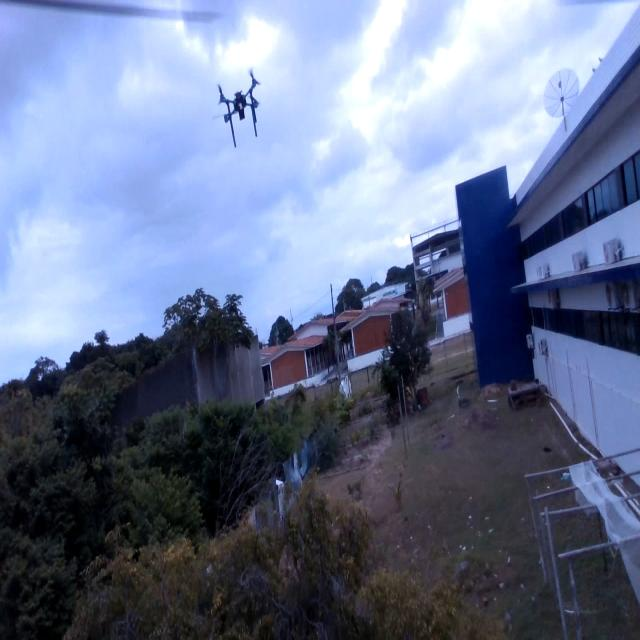-uav-: (204, 68, 279, 153)
